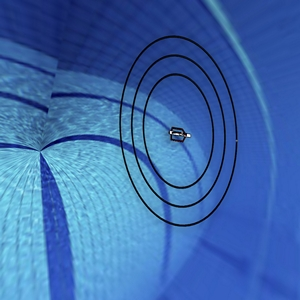circle: (106, 21, 259, 240)
submarine: (161, 114, 191, 150)
